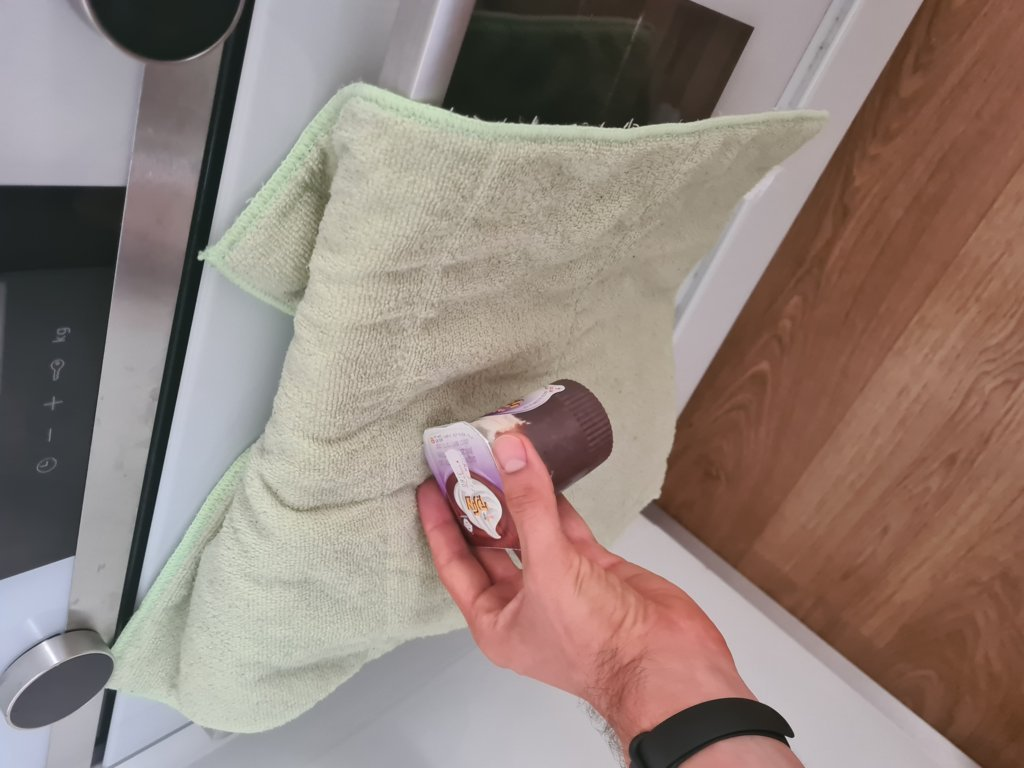milky: (417, 378, 612, 546)
